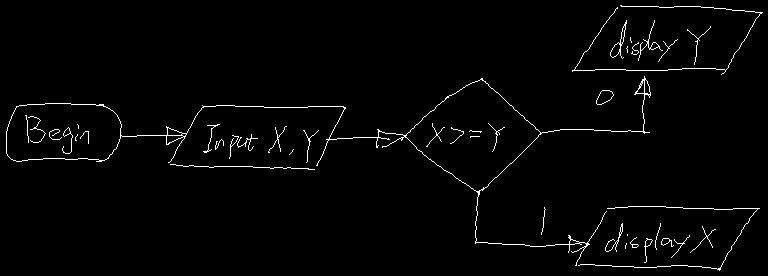arrow: (475, 190, 589, 252), (540, 76, 650, 133), (326, 129, 406, 147), (120, 126, 186, 144)
data: (572, 5, 762, 74), (575, 206, 759, 270), (168, 105, 345, 169)
decision: (401, 78, 541, 194)
terminator: (6, 103, 121, 161)
text: (610, 20, 710, 64), (203, 124, 318, 162), (605, 223, 715, 262), (25, 115, 88, 153), (426, 123, 504, 151), (596, 90, 613, 104), (541, 207, 545, 234)
